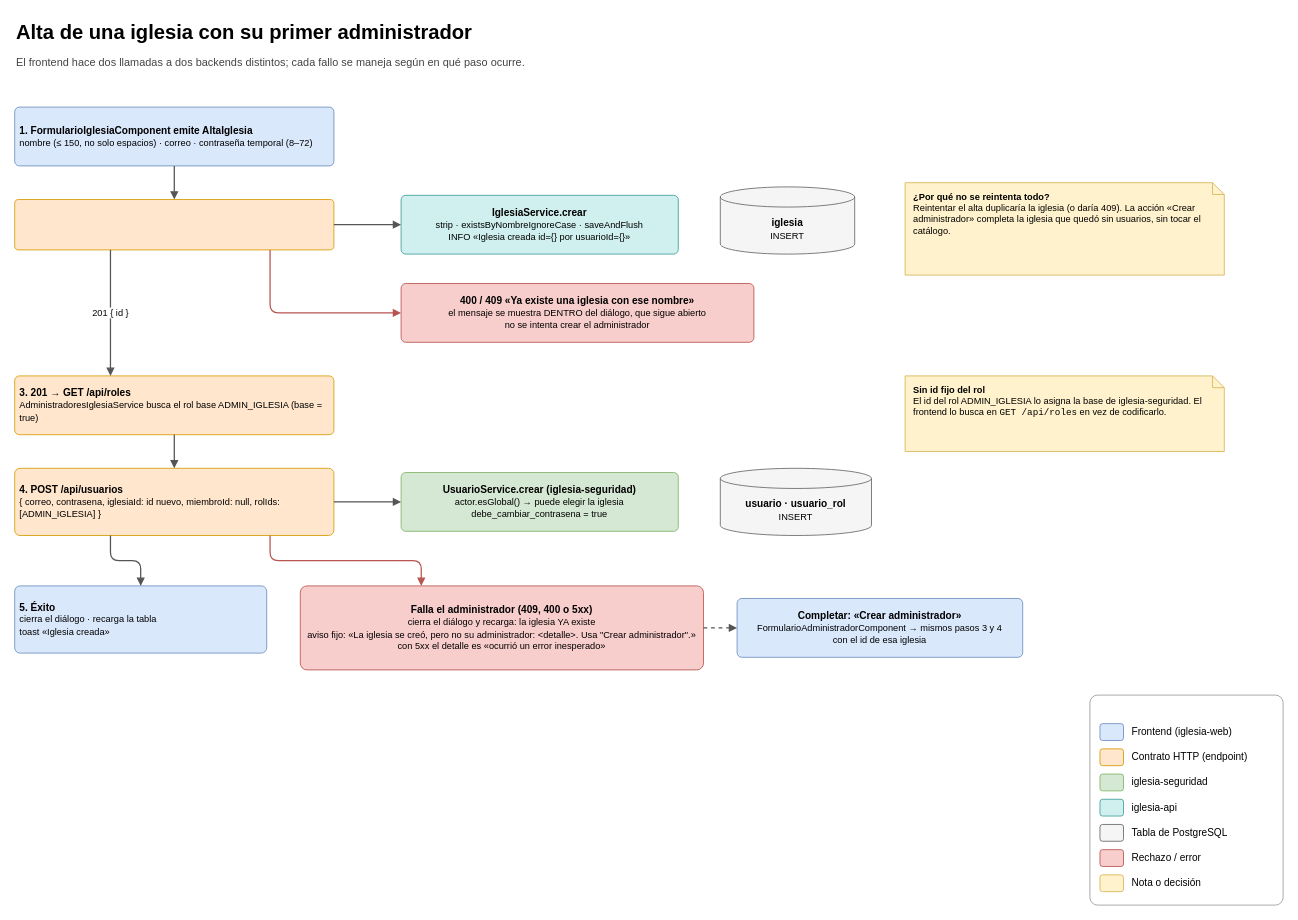
The diagram is 1298 pixels wide and 920 high, and some of its shapes have lost their labels. The box of each missing label's shape, as (x1, y1, x2, y2) in pixels:
2. POST /api/iglesias { nombre } IglesiasService.crear → iglesia-api: (14, 199, 334, 250)
Leyenda: (1089, 694, 1283, 905)
